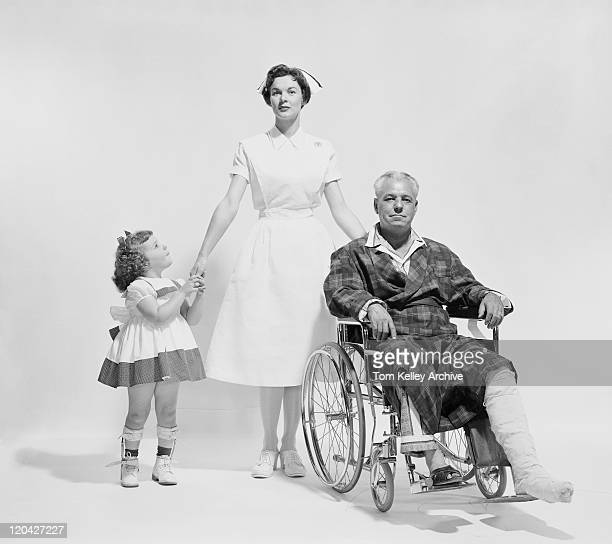wheelchair: (299, 172, 576, 511)
